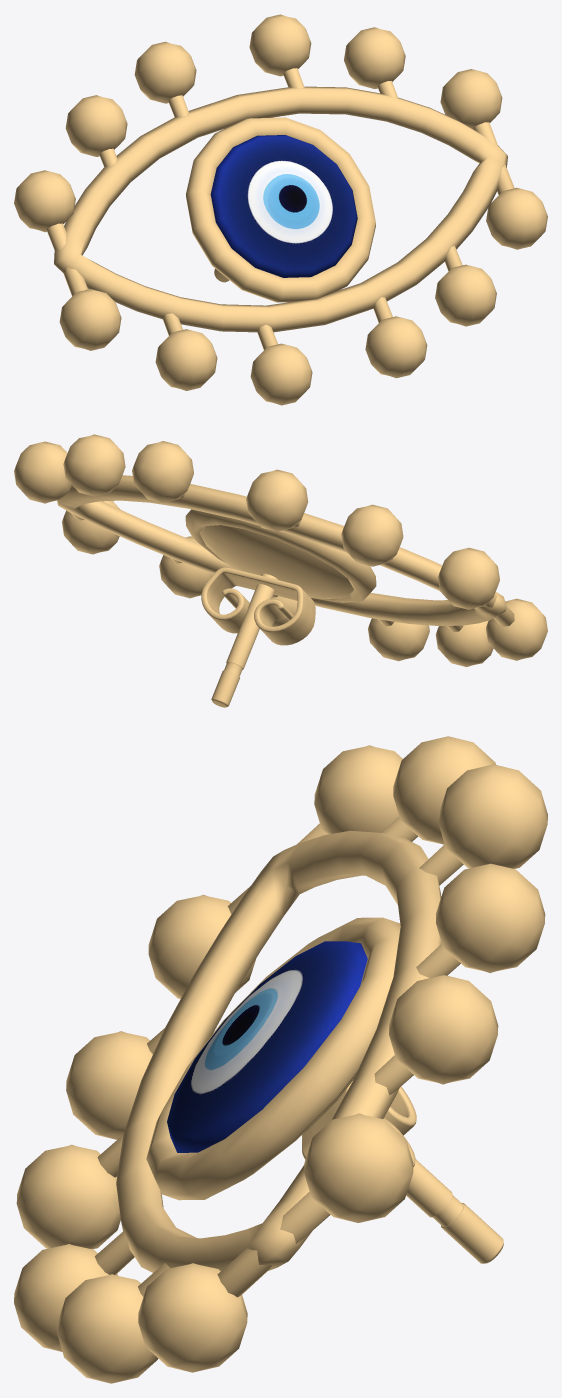
File: EvilEyeEarring-Single.glb
3 views of the same model, one above another, from view 1: azimuth 30°, elevation 25°; view 2: azimuth 150°, elevation 25°; view 3: azimuth 270°, elevation 25° (orthographic). The views are drawn at different scales.
Visible parts, largest first — view 1: Evil Eye; view 2: Evil Eye; view 3: Evil Eye.
Part boxes in pixels (left/top/right/bottom): Evil Eye: left=14, top=14, right=547, bottom=405; Evil Eye: left=14, top=434, right=547, bottom=707; Evil Eye: left=14, top=736, right=547, bottom=1383.
Bounding box in the file's own units: 5.83 × 3.17 × 3.19.
Materials: 2 (1 with a texture image).
